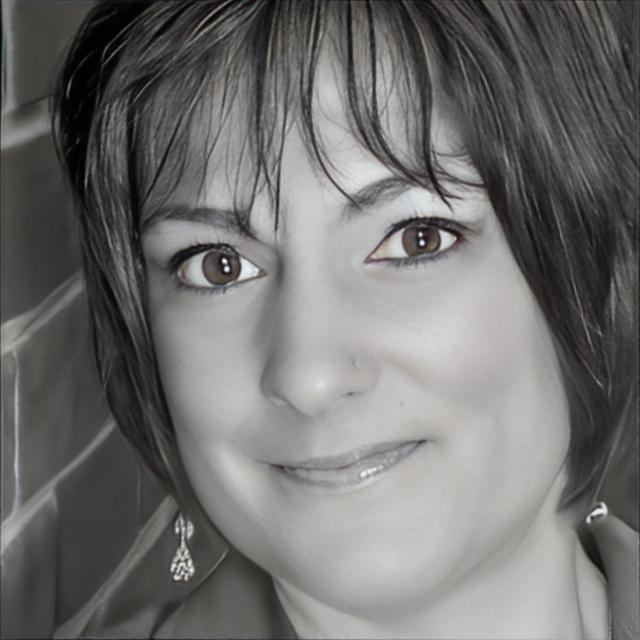content: (133, 39, 574, 618)
